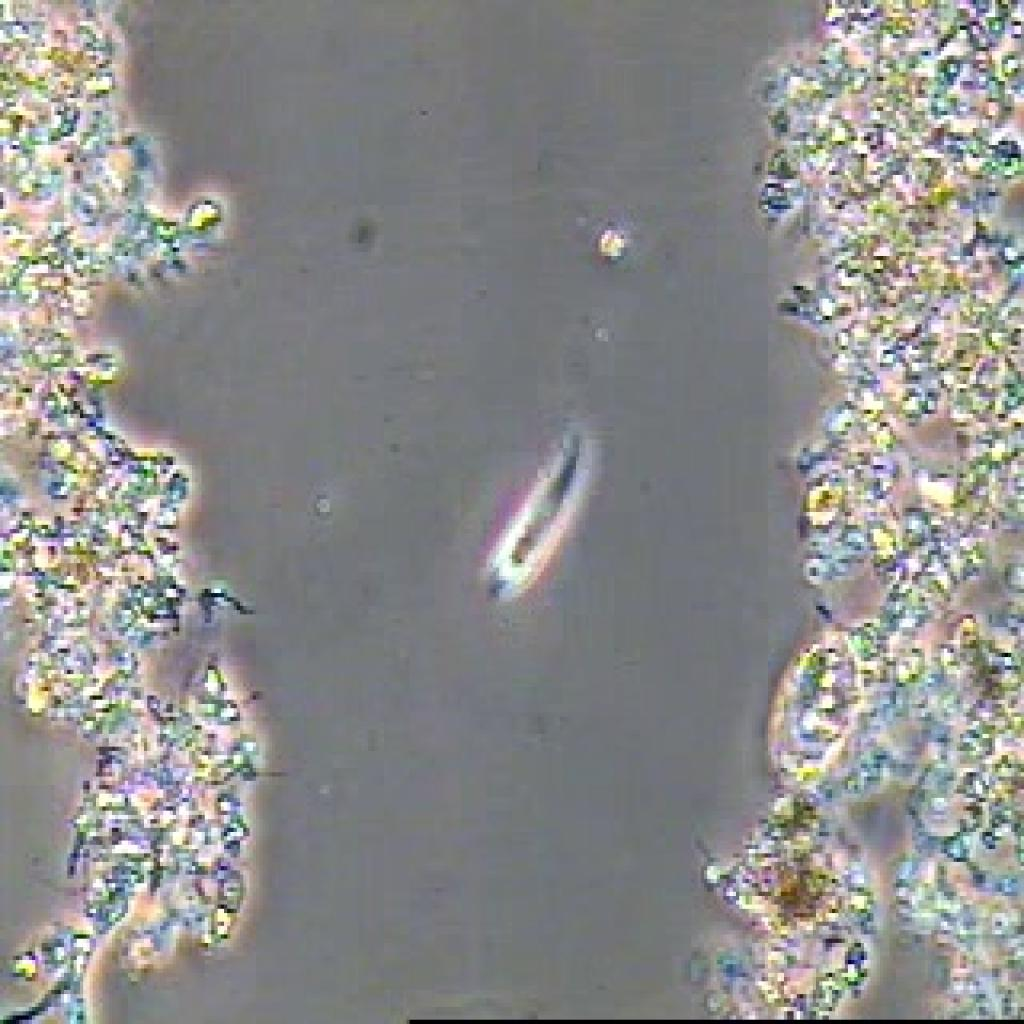Pristina: (450, 399, 612, 612)
